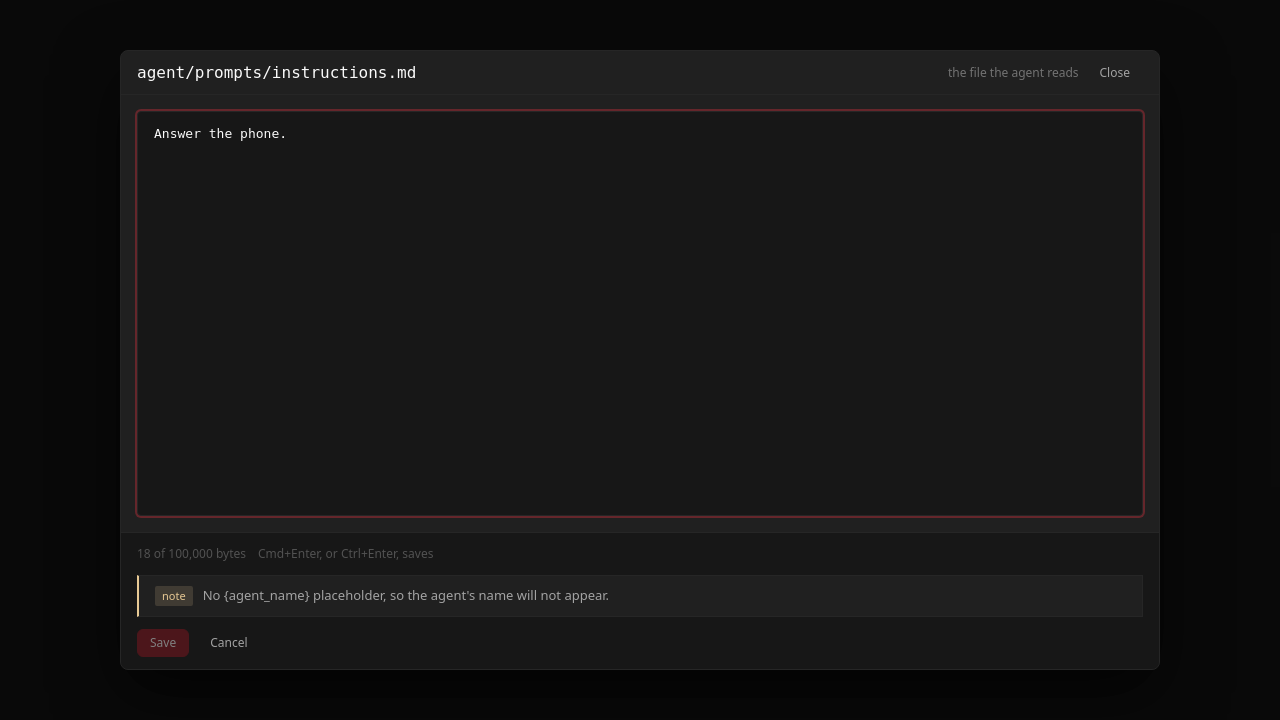
PromptDialog › passes the backend's non-blocking warnings through without blocking
expect the text "placeholder" is shown: met, box x1=203 y1=586 x2=609 y2=604
Replace the text in the text box named "system prompt" with "Answer the phone. Politely." at point(640, 314), box x1=137 y1=111 x2=1143 y2=516
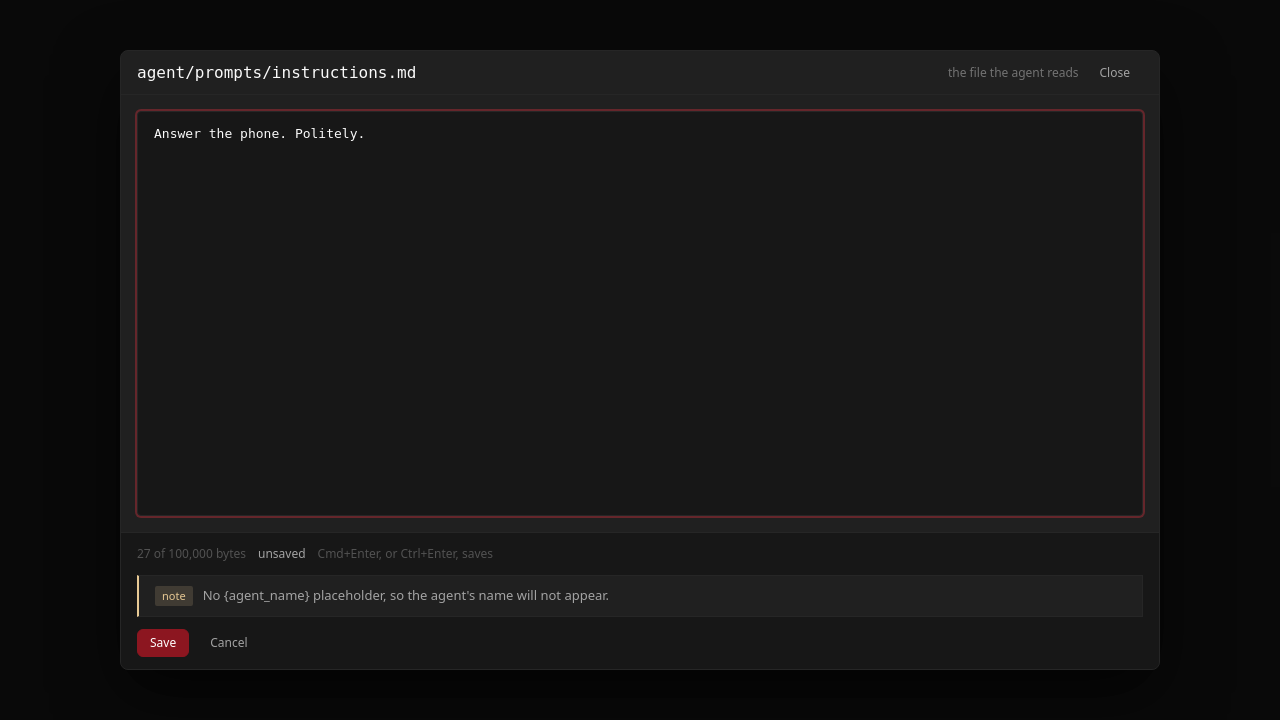
expect the button "Save" is enabled: met, box x1=137 y1=629 x2=189 y2=657
